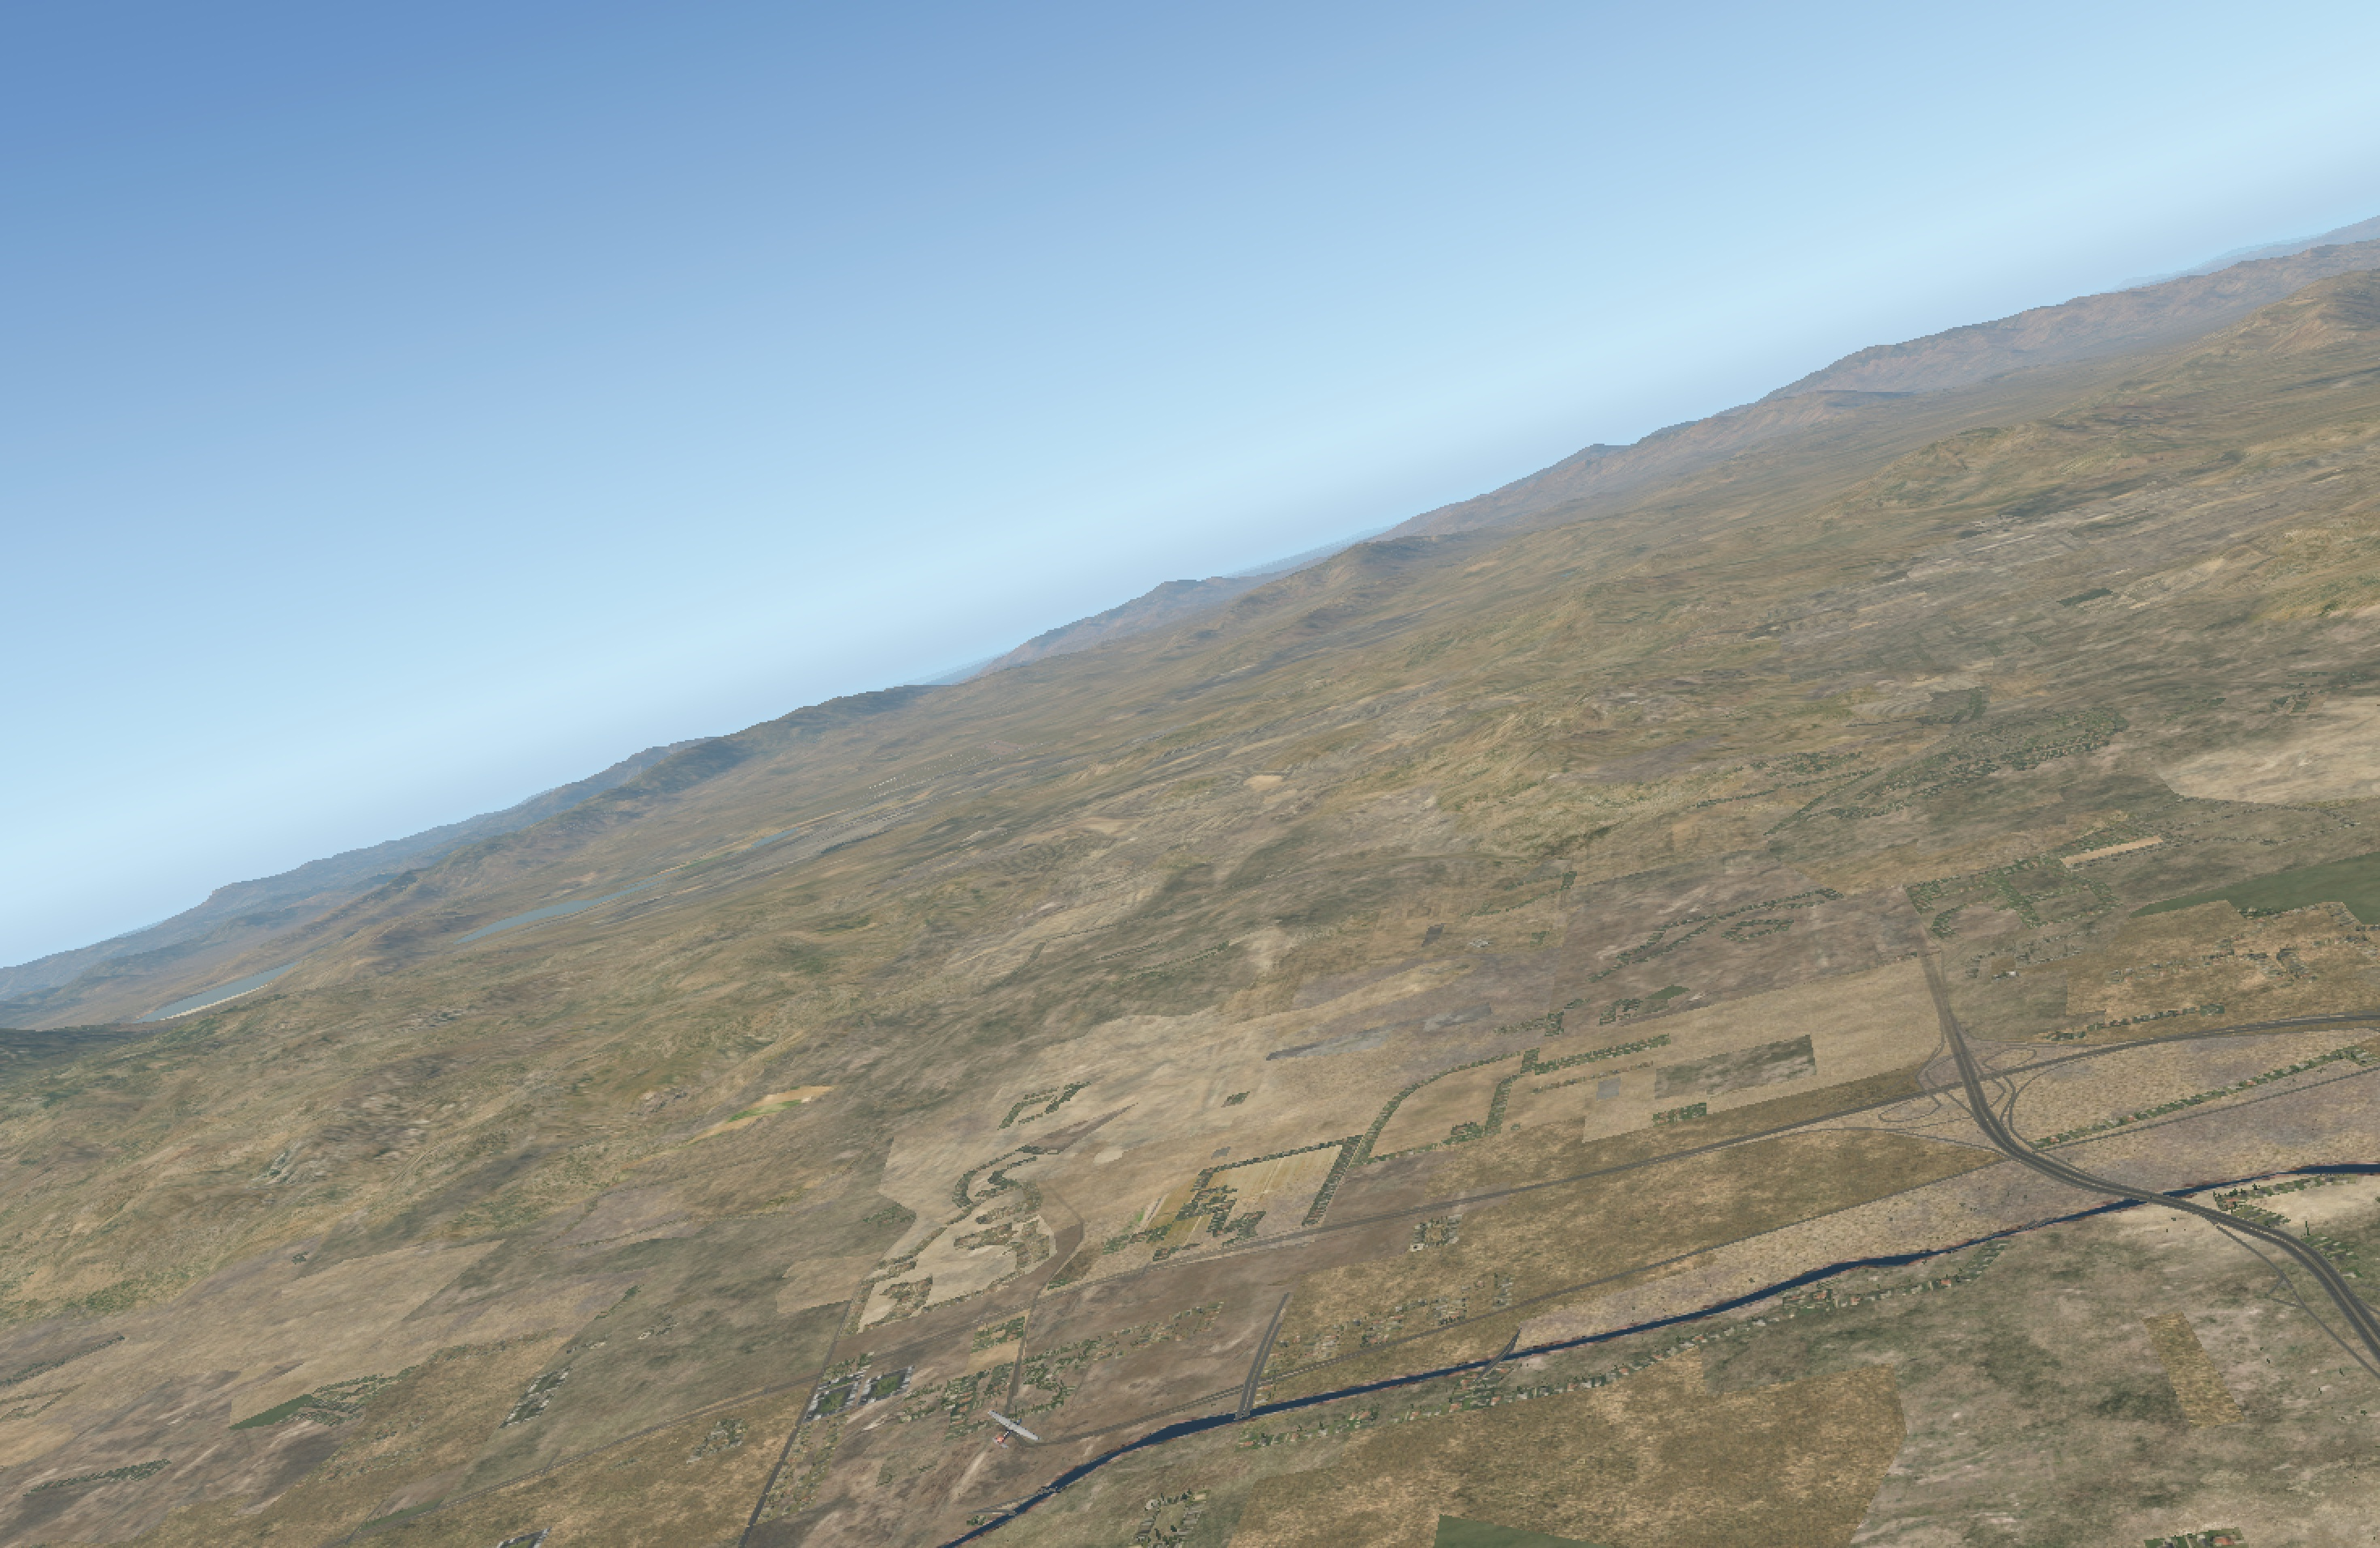aircraft: (994, 1420, 1034, 1435)
